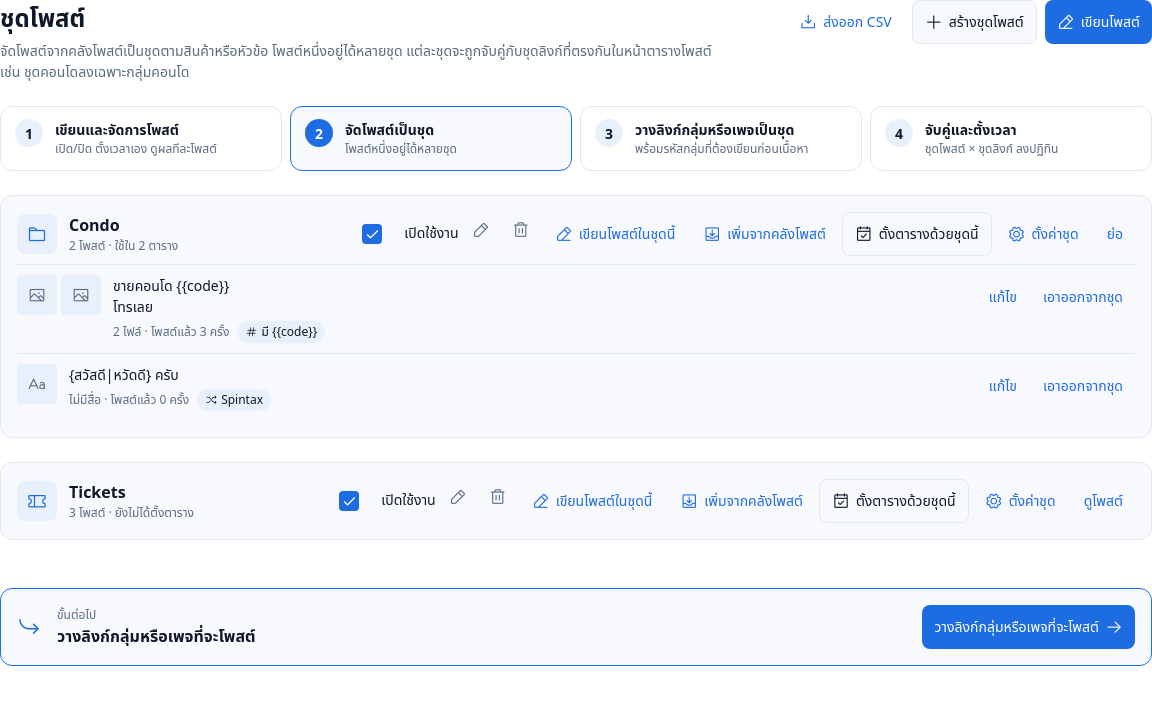
Test case: CollectionsPageComponent › new collection › asks for a name
Click the button "สร้างชุดโพสต์": (974,22) [912,0,1037,44]
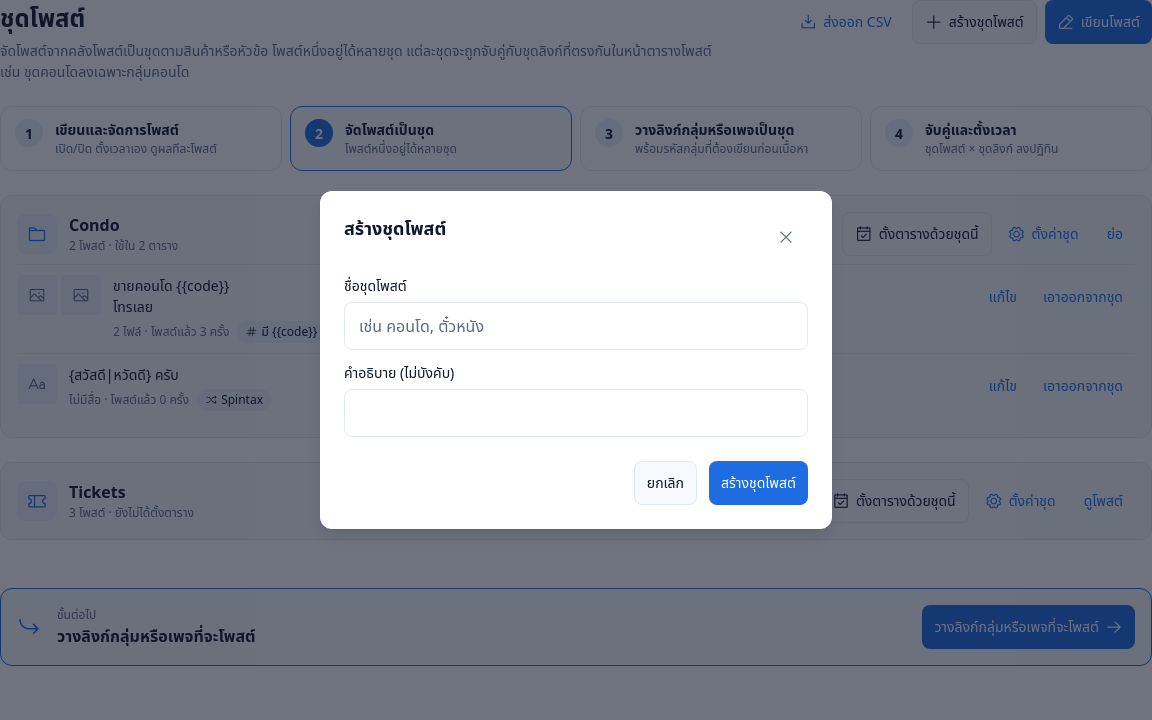
Click the submit button: (758,483) [709,461,808,505]
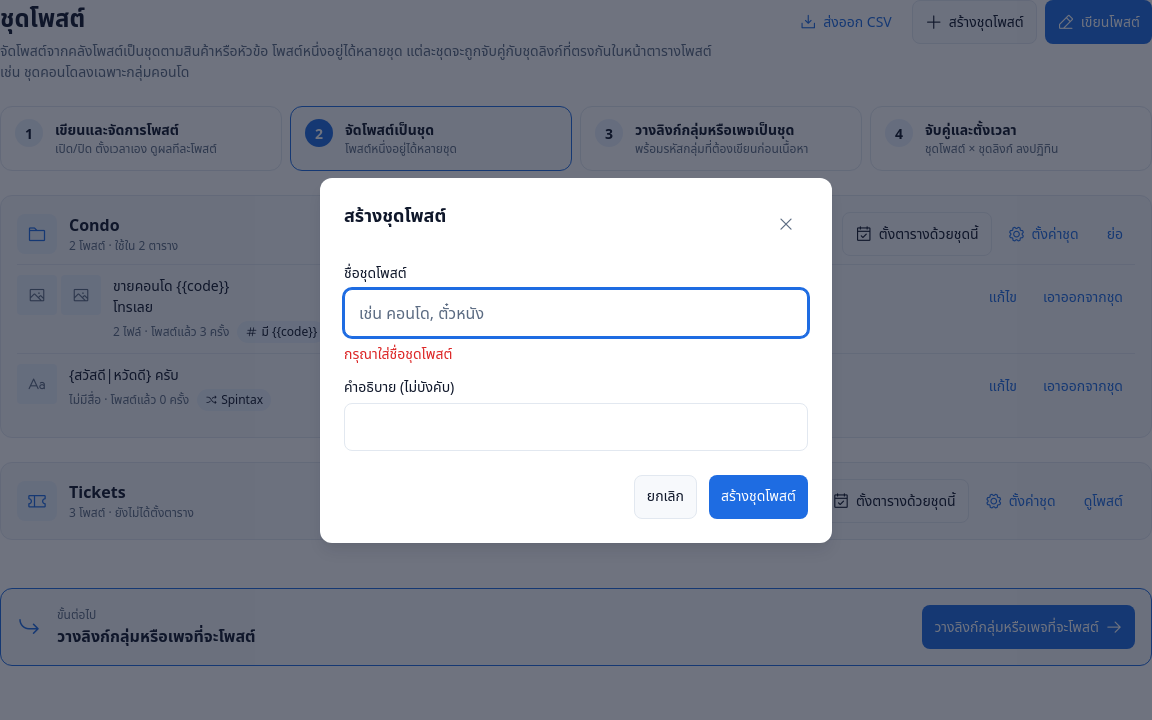
Check: the message with class "su-field-err" reads "กรุณาใส่ชื่อชุดโพสต์", box [344,344,452,362]
